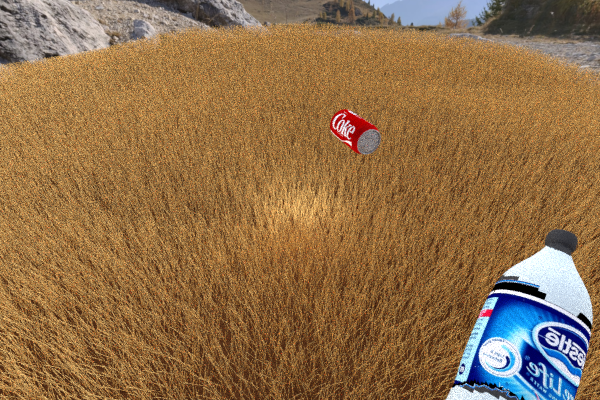Plastic Bottle: (412, 229, 592, 400), (329, 109, 380, 154)
